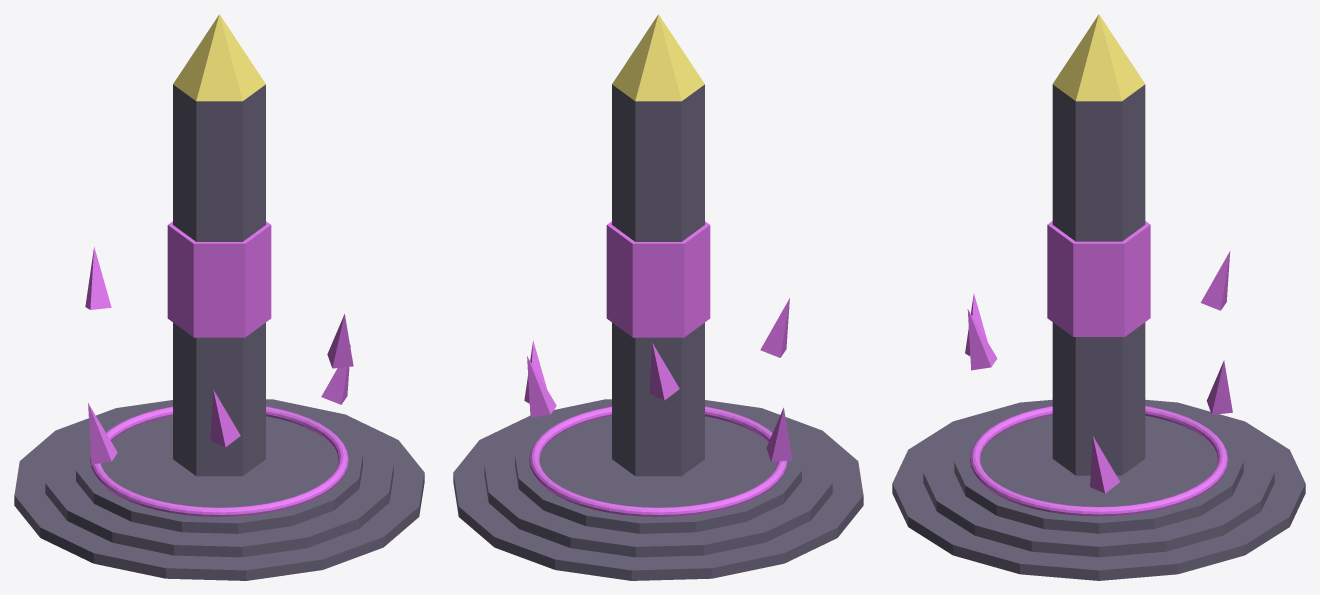
File: Torre_Rebirth_Spectacular.fbx
3 renders of one model, left to right at view 1: azimuth 30°, elevation 25°; view 2: azimuth 150°, elevation 25°; view 3: azimuth 270°, elevation 25°, orthographic.
Parts seen in each view (by area): view 1: Rebirth_Monolith_Spire, Rebirth_Dais_3, Rebirth_Dais_1, Rebirth_Dais_2, Spire_Amethyst_Core, Inlaid_Rune_Ring, Spire_Peak, Satellite_Crystal_4, Satellite_Crystal_5, Satellite_Crystal_3, Satellite_Crystal_6, Satellite_Crystal_1; view 2: Rebirth_Monolith_Spire, Rebirth_Dais_3, Rebirth_Dais_1, Rebirth_Dais_2, Spire_Amethyst_Core, Inlaid_Rune_Ring, Spire_Peak, Satellite_Crystal_2, Satellite_Crystal_3, Satellite_Crystal_4, Satellite_Crystal_5; view 3: Rebirth_Monolith_Spire, Rebirth_Dais_3, Rebirth_Dais_1, Rebirth_Dais_2, Spire_Amethyst_Core, Inlaid_Rune_Ring, Spire_Peak, Satellite_Crystal_6, Satellite_Crystal_1, Satellite_Crystal_2, Satellite_Crystal_3.
Boxes of the visible parts, left/top/right/bottom form: Rebirth_Monolith_Spire: left=173, top=84, right=265, bottom=476; Rebirth_Dais_3: left=76, top=405, right=362, bottom=533; Rebirth_Dais_1: left=14, top=399, right=424, bottom=580; Rebirth_Dais_2: left=45, top=401, right=393, bottom=557; Spire_Amethyst_Core: left=167, top=221, right=271, bottom=337; Inlaid_Rune_Ring: left=90, top=406, right=348, bottom=516; Spire_Peak: left=173, top=14, right=265, bottom=101; Satellite_Crystal_4: left=88, top=403, right=117, bottom=464; Satellite_Crystal_5: left=210, top=390, right=240, bottom=447; Satellite_Crystal_3: left=85, top=247, right=111, bottom=309; Satellite_Crystal_6: left=327, top=314, right=353, bottom=368; Satellite_Crystal_1: left=321, top=345, right=350, bottom=404; Rebirth_Monolith_Spire: left=612, top=84, right=704, bottom=476; Rebirth_Dais_3: left=515, top=405, right=801, bottom=533; Rebirth_Dais_1: left=453, top=399, right=863, bottom=580; Rebirth_Dais_2: left=484, top=401, right=832, bottom=557; Spire_Amethyst_Core: left=606, top=221, right=710, bottom=337; Inlaid_Rune_Ring: left=529, top=406, right=787, bottom=516; Spire_Peak: left=612, top=14, right=704, bottom=101; Satellite_Crystal_2: left=527, top=356, right=556, bottom=417; Satellite_Crystal_3: left=649, top=343, right=679, bottom=400; Satellite_Crystal_4: left=766, top=407, right=792, bottom=462; Satellite_Crystal_5: left=760, top=298, right=789, bottom=357; Rebirth_Monolith_Spire: left=1052, top=84, right=1145, bottom=475; Rebirth_Dais_3: left=954, top=405, right=1243, bottom=533; Rebirth_Dais_1: left=892, top=399, right=1305, bottom=580; Rebirth_Dais_2: left=923, top=402, right=1274, bottom=557; Spire_Amethyst_Core: left=1047, top=221, right=1150, bottom=336; Inlaid_Rune_Ring: left=970, top=406, right=1227, bottom=516; Spire_Peak: left=1053, top=14, right=1144, bottom=101; Satellite_Crystal_6: left=967, top=309, right=997, bottom=370; Satellite_Crystal_1: left=1090, top=436, right=1119, bottom=493; Satellite_Crystal_2: left=1206, top=360, right=1232, bottom=414; Satellite_Crystal_3: left=1200, top=251, right=1230, bottom=310.
Bounding box in the file's own units: 1600 × 2050 × 1600.
